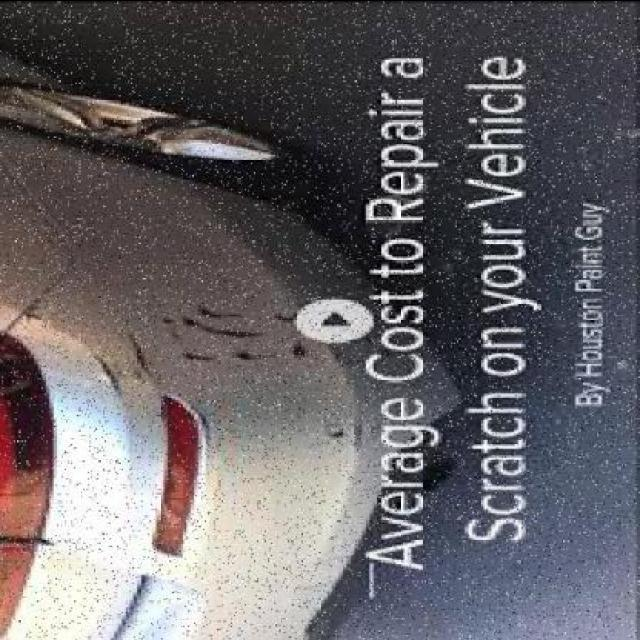rear-bumper-dent: (42, 179, 469, 640)
